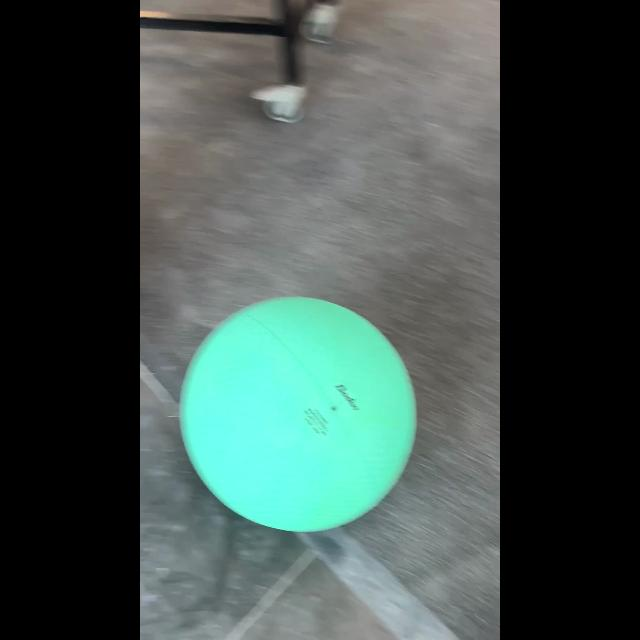ALGAE: (178, 295, 418, 533)
